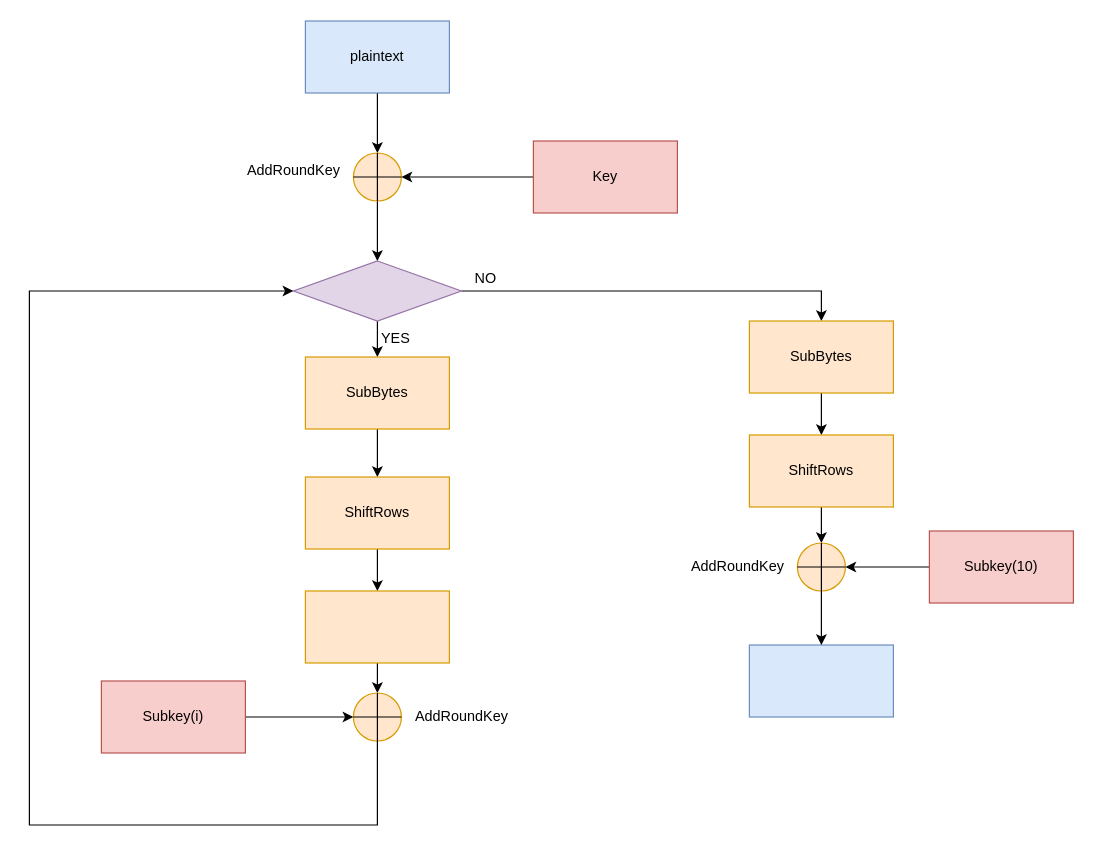
Image size: 1094x856. Some labels were removed from this diagram. The box of each missing label's shape, as (x1, y1, x2, y2) in pixels:
ciphertext: (748, 644, 893, 717)
For i = 1 to 9: (292, 260, 461, 321)
MixColumns: (304, 590, 449, 663)
